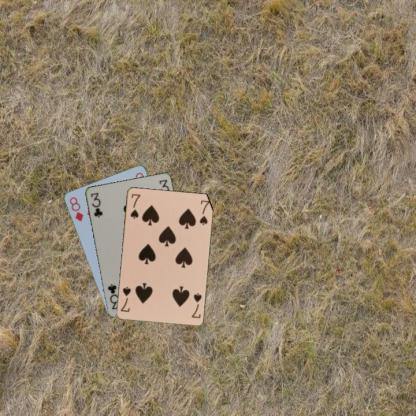3c: (88, 190, 104, 218)
7s: (128, 191, 142, 220), (189, 290, 203, 319)
8d: (66, 194, 84, 223)
